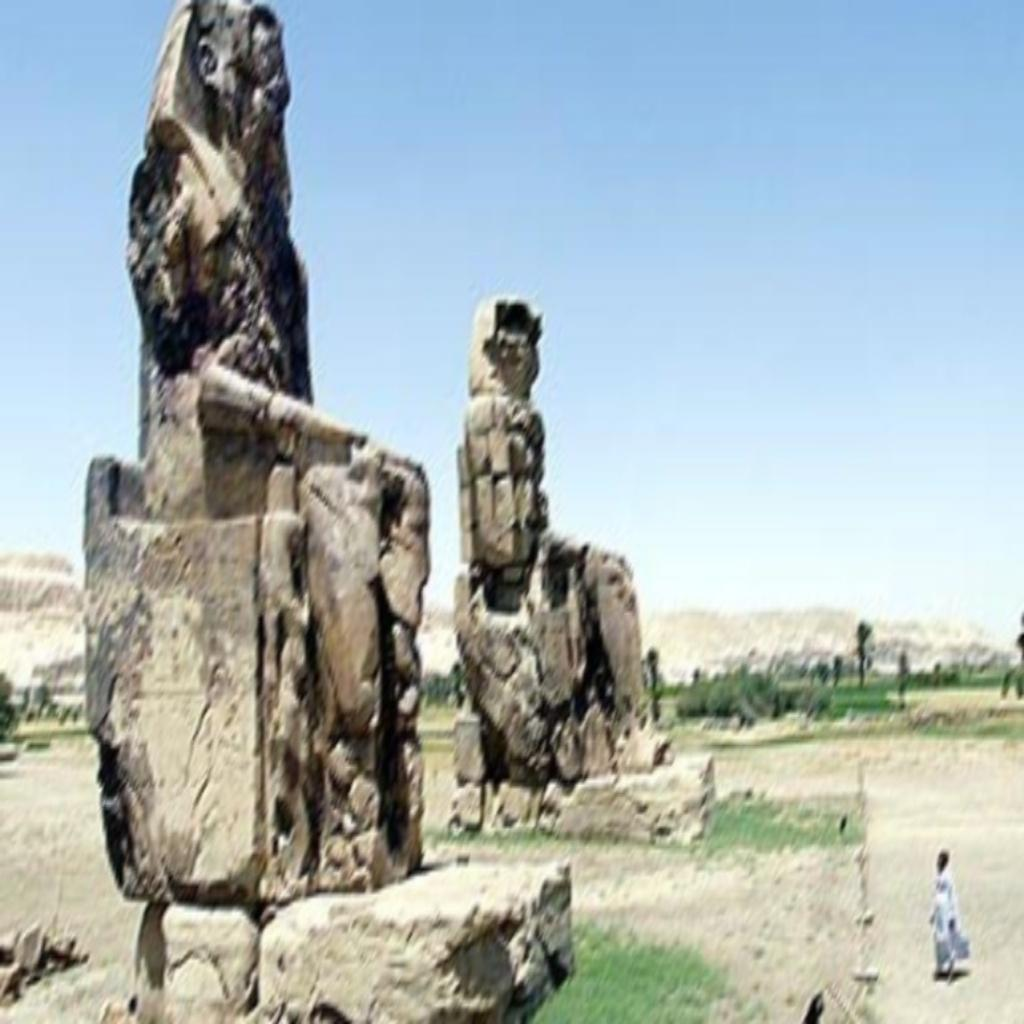Colossoi of Memnon: (78, 2, 434, 1012), (447, 288, 657, 808)
